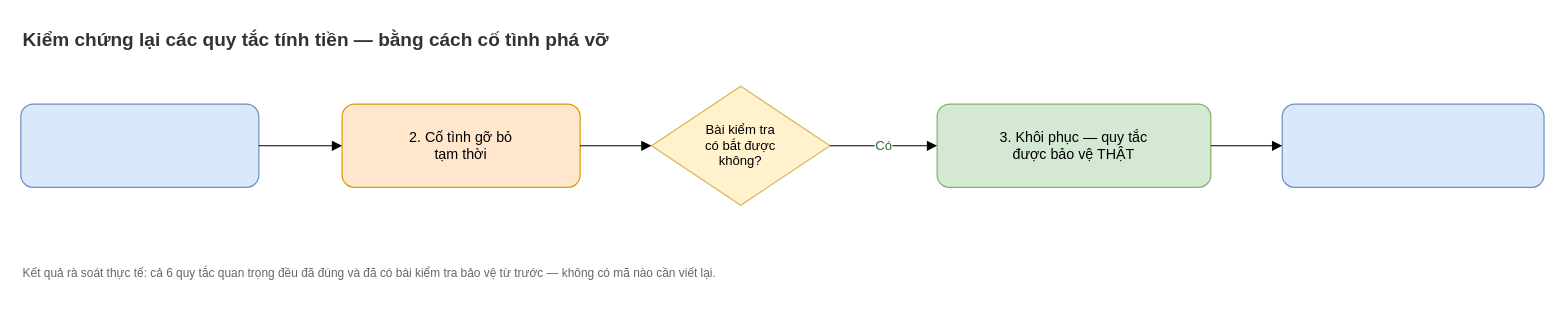
Image size: 1565x314. Some labels were removed from this diagram. Here are the shapes that lost their labels. From the top down, the centre of each, then its label:
[139,145]: 1. Rà soát 1 quy tắc tính tiền
[1412,145]: 4. Ghi kỷ luật làm việc cho tương lai
